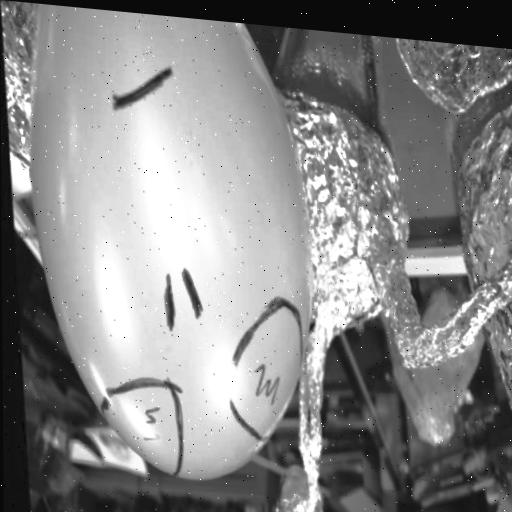balloon: (20, 2, 315, 501)
